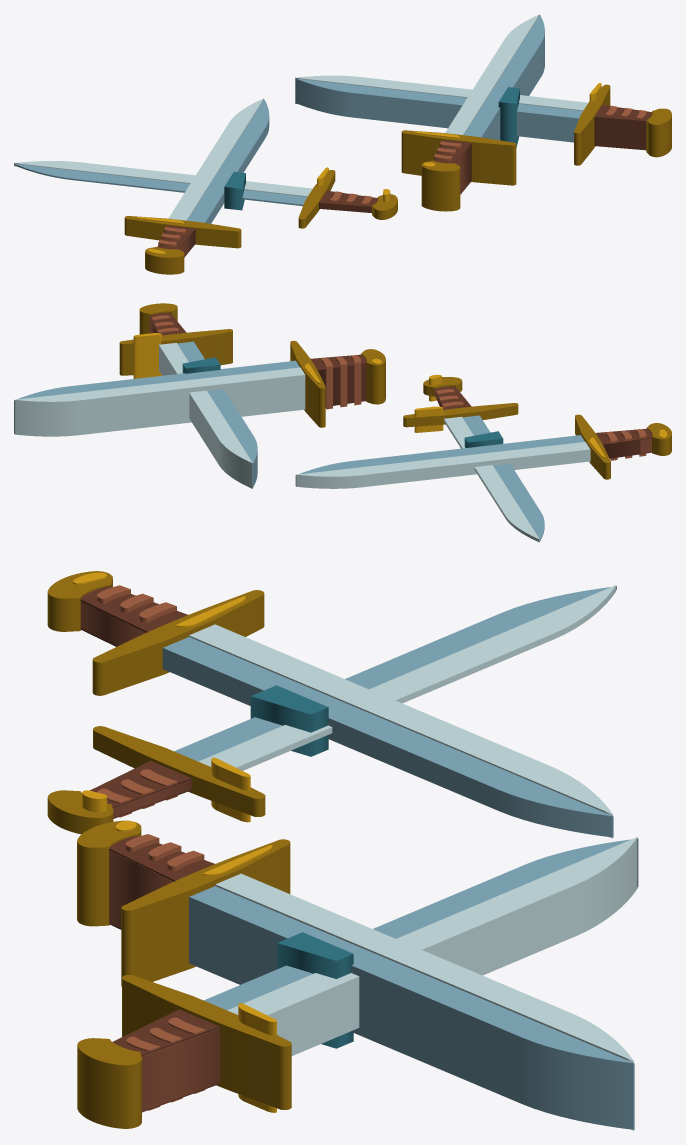
Rendered from emoji_u2694.glb.
The picture shows the model from 3 angles, top to bottom: view 1: azimuth 30°, elevation 25°; view 2: azimuth 150°, elevation 25°; view 3: azimuth 270°, elevation 25°; orthographic projection. The views are drawn at different scales.
Visible parts, largest first — view 1: emoji_u2694; view 2: emoji_u2694; view 3: emoji_u2694.
Boxes of the visible parts, x1,y1,x2,y2 form: emoji_u2694: (14,14,671,274); emoji_u2694: (14,303,671,542); emoji_u2694: (47,571,638,1130).
Bounding box in the file's own units: 0.0723 × 0.006 × 0.0354.
